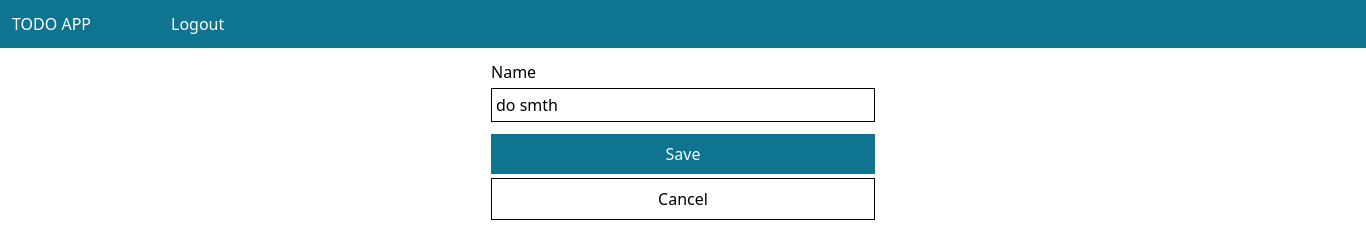
Scenario: edit task
This screenshot has width=1366, height=237.
Expected: the button "Save" is shown, [491,134,875,174]
Replace the text in the field with placeholder "Name of the task" with "my updated task": (683, 105) [491,88,875,122]
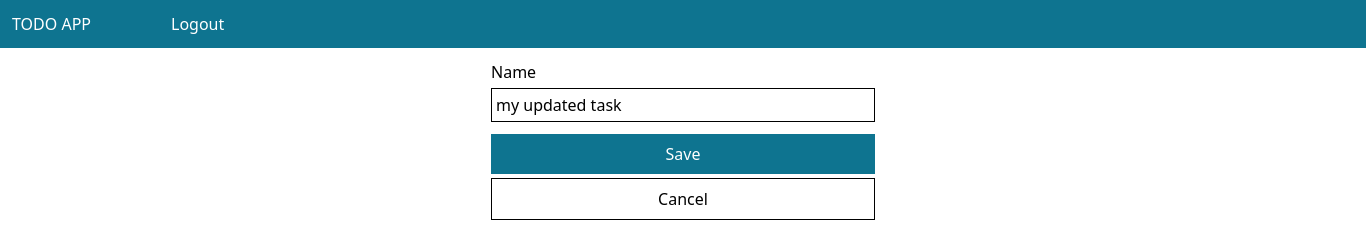
Click the button "Save": (683, 154) [491,134,875,174]
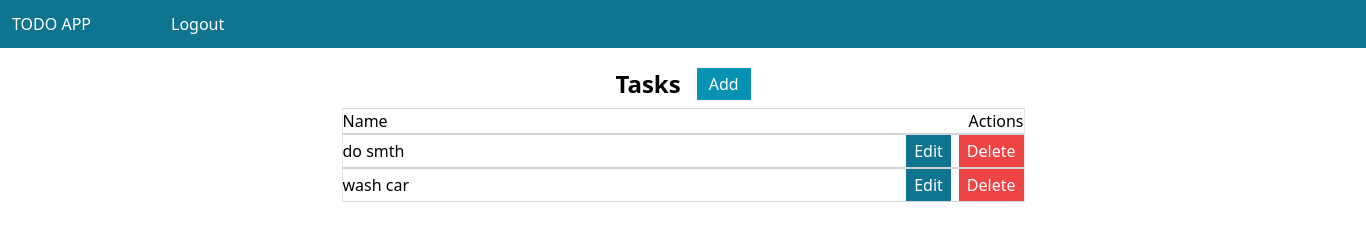
Result: the heading "Tasks" is shown at [615,68,681,100]
